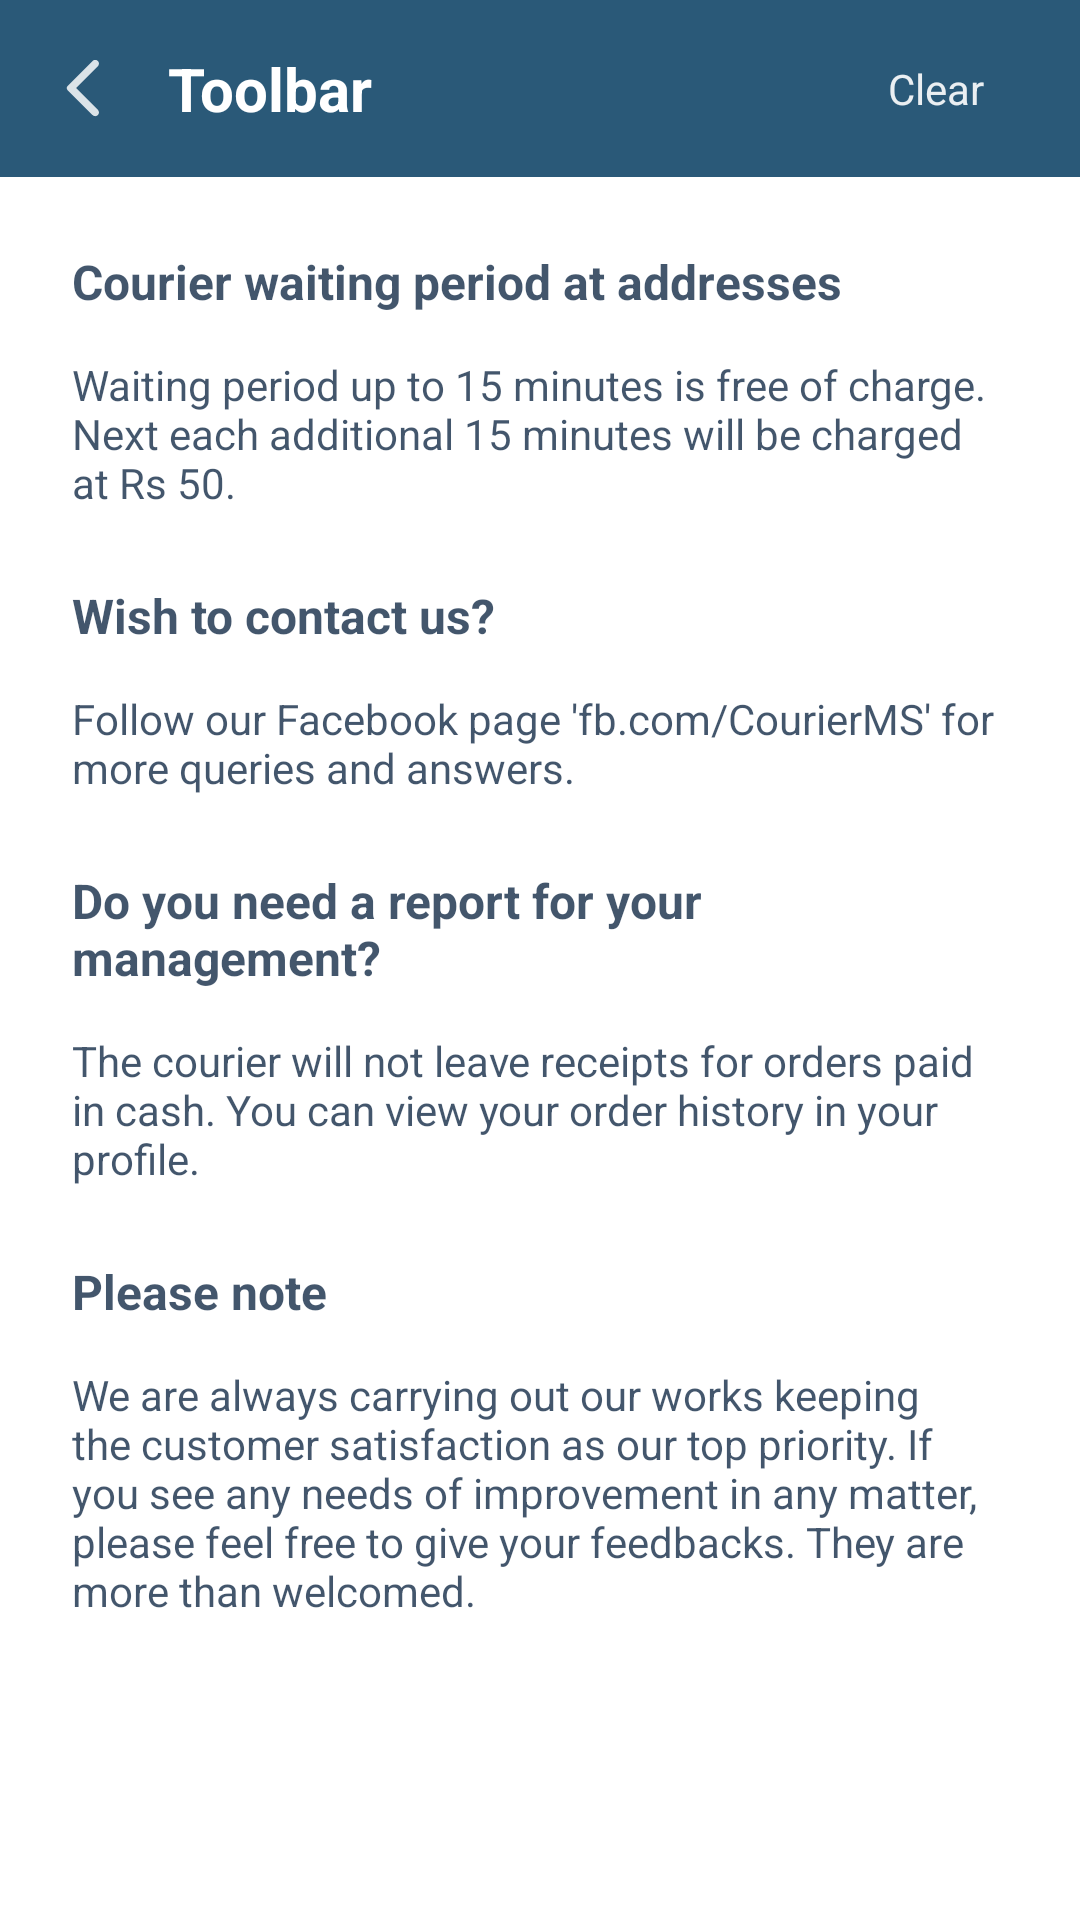

Where icons sit on this 1080x1920 app screen, as {"left": x1, "top": y1, "right": x2, "bottom": y2}:
arrow back: {"left": 66, "top": 60, "right": 99, "bottom": 116}
